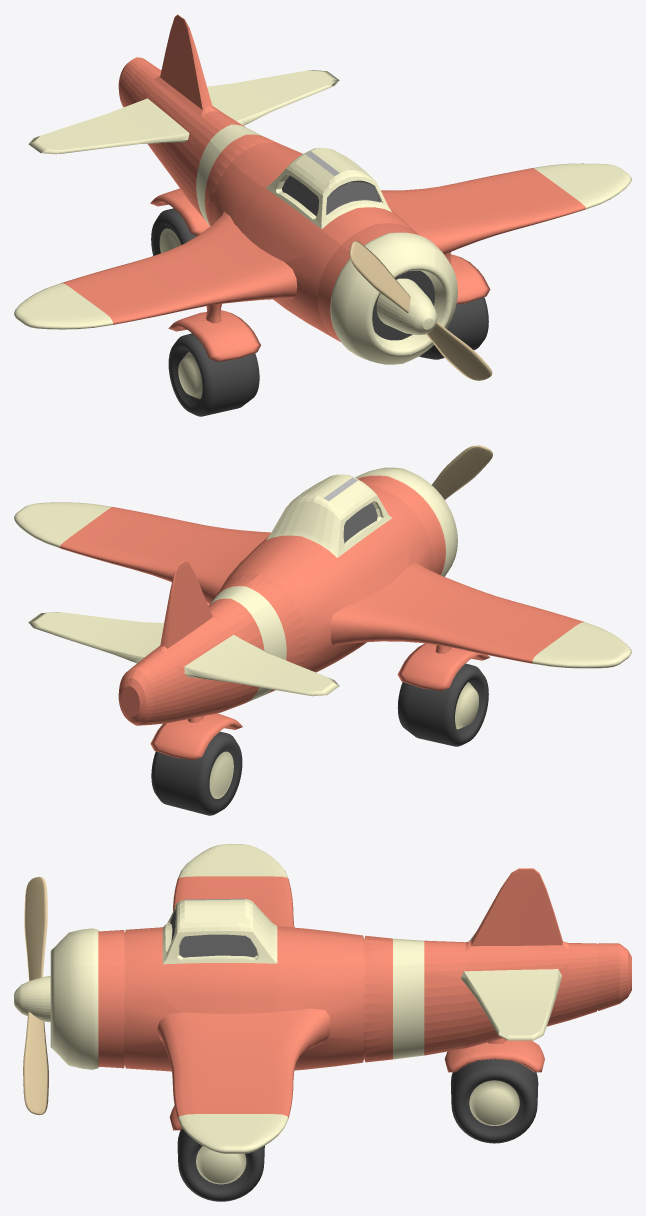
Rendered from planeMesh.fbx.
3 renders of one model, top to bottom at view 1: azimuth 30°, elevation 25°; view 2: azimuth 150°, elevation 25°; view 3: azimuth 270°, elevation 25°, orthographic. The views are drawn at different scales.
Visible parts, largest first — view 1: polySurface48, polySurface48.001; view 2: polySurface48, polySurface48.001; view 3: polySurface48, polySurface48.001.
Part boxes in pixels (box(x1,y1,x2,y2)): polySurface48: box(14, 14, 631, 416); polySurface48.001: box(349, 241, 492, 380); polySurface48: box(14, 467, 631, 815); polySurface48.001: box(432, 445, 492, 499); polySurface48: box(14, 844, 631, 1201); polySurface48.001: box(23, 876, 48, 1115).
Size of the model in its own units: 194 by 78.39 by 165.
